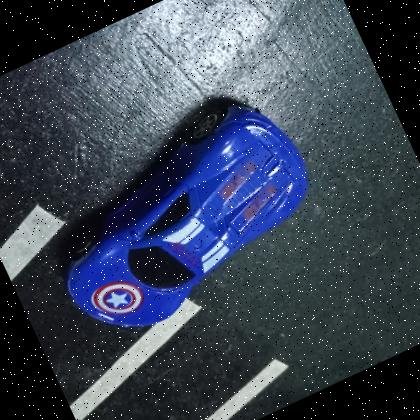Car: (64, 100, 308, 326)
